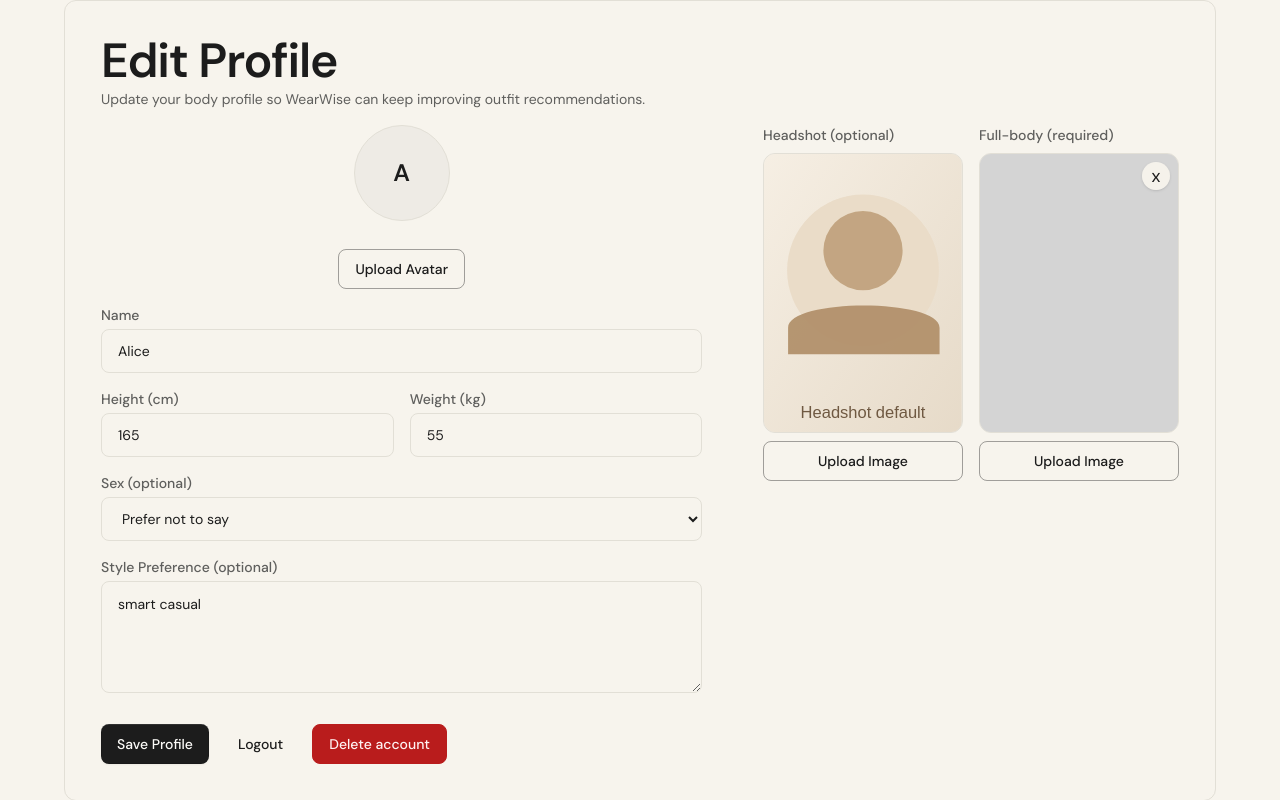
ProfilePage › shows a validation error when the name is empty
Clear the field with placeholder "Your name" below "Name" at (402, 351), box [101,329,702,373]
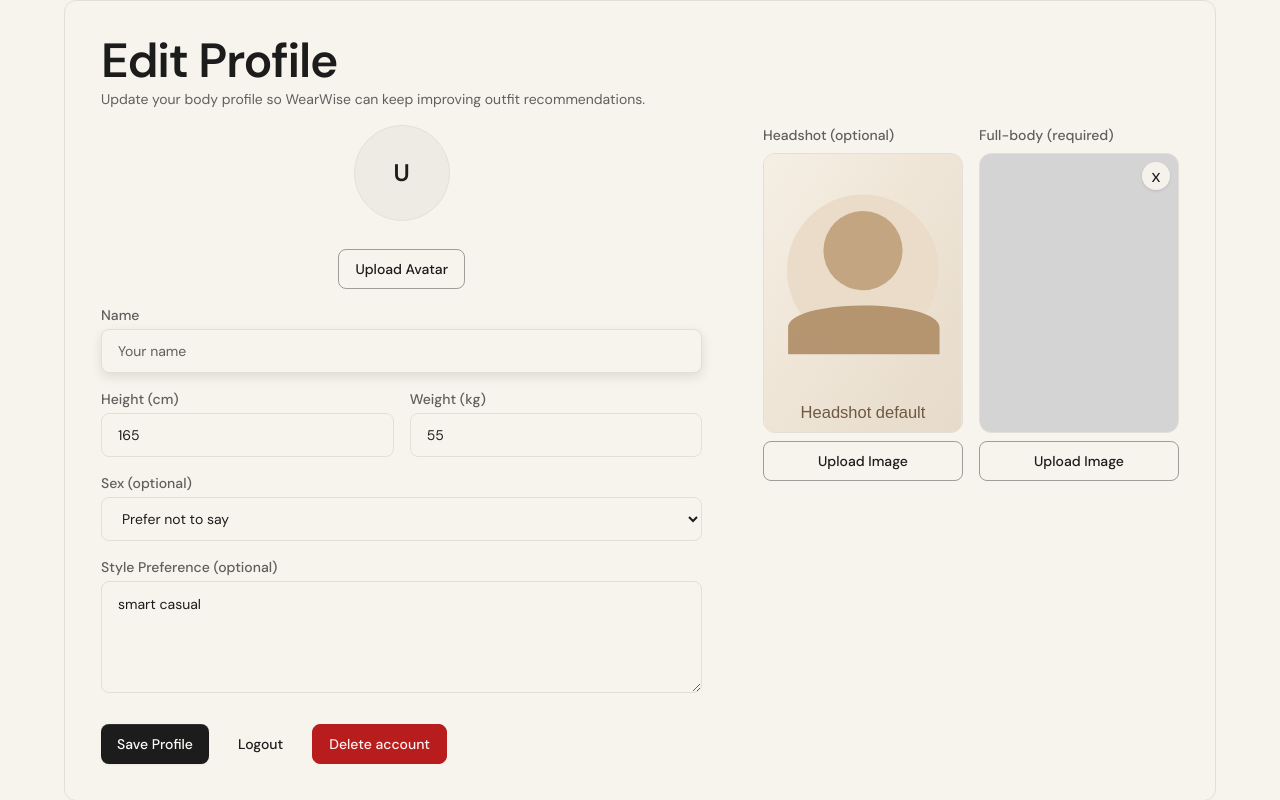
Click the button "Save Profile".
click(155, 744)  # box [101,724,209,764]
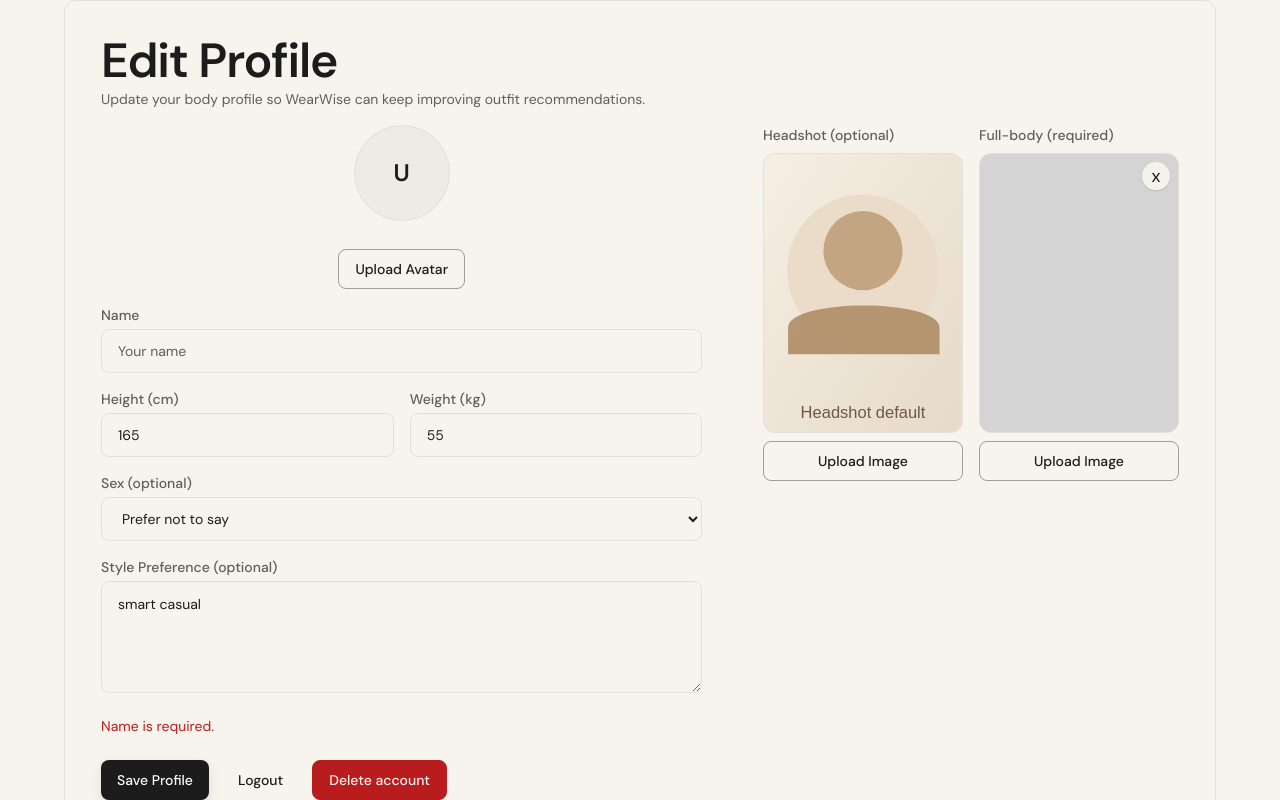
Expected: the text "Name is required." is shown, [101,717,214,735]
